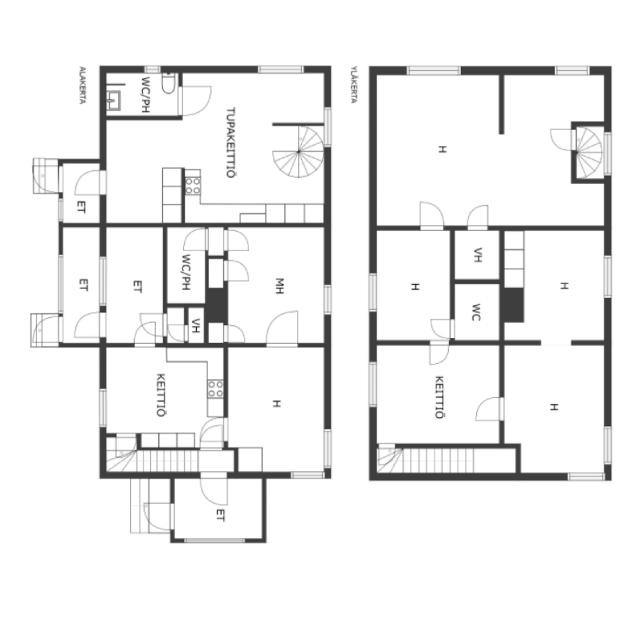door: (372, 343, 506, 449), (181, 470, 256, 543), (167, 225, 209, 303), (61, 162, 105, 223), (261, 308, 304, 349), (171, 82, 218, 119), (137, 496, 179, 534), (218, 237, 254, 279), (469, 392, 508, 430), (27, 312, 69, 346), (412, 198, 450, 234), (29, 159, 66, 195), (198, 470, 231, 510), (544, 122, 582, 155), (70, 167, 108, 200), (462, 199, 496, 234), (72, 308, 110, 339), (198, 415, 228, 450), (220, 257, 254, 285), (222, 227, 254, 256), (533, 335, 578, 354), (427, 315, 458, 342), (182, 227, 211, 255), (133, 317, 162, 345), (424, 340, 452, 369), (220, 322, 248, 345), (167, 322, 190, 343)
window: (104, 224, 169, 346), (400, 60, 467, 78), (178, 534, 252, 548), (253, 60, 310, 78), (559, 466, 610, 486), (364, 356, 382, 412), (547, 60, 597, 80), (364, 266, 382, 320), (320, 102, 338, 154), (600, 251, 617, 303), (319, 422, 336, 473), (600, 421, 618, 469), (284, 466, 331, 484), (96, 384, 111, 433), (601, 129, 616, 178), (320, 280, 337, 320), (98, 252, 110, 308), (55, 254, 66, 310), (141, 62, 166, 77), (56, 196, 66, 223)
zone: (179, 73, 328, 226), (373, 68, 502, 229), (500, 340, 611, 477), (370, 342, 506, 448), (226, 342, 329, 476), (101, 342, 227, 448), (498, 227, 610, 344), (221, 224, 327, 346), (371, 226, 453, 344), (102, 114, 185, 226), (103, 225, 165, 340), (177, 476, 264, 544), (500, 72, 610, 124), (59, 221, 102, 343), (103, 71, 181, 118), (166, 225, 209, 305), (453, 280, 502, 345), (451, 228, 504, 283), (61, 160, 104, 223), (185, 304, 208, 344)
